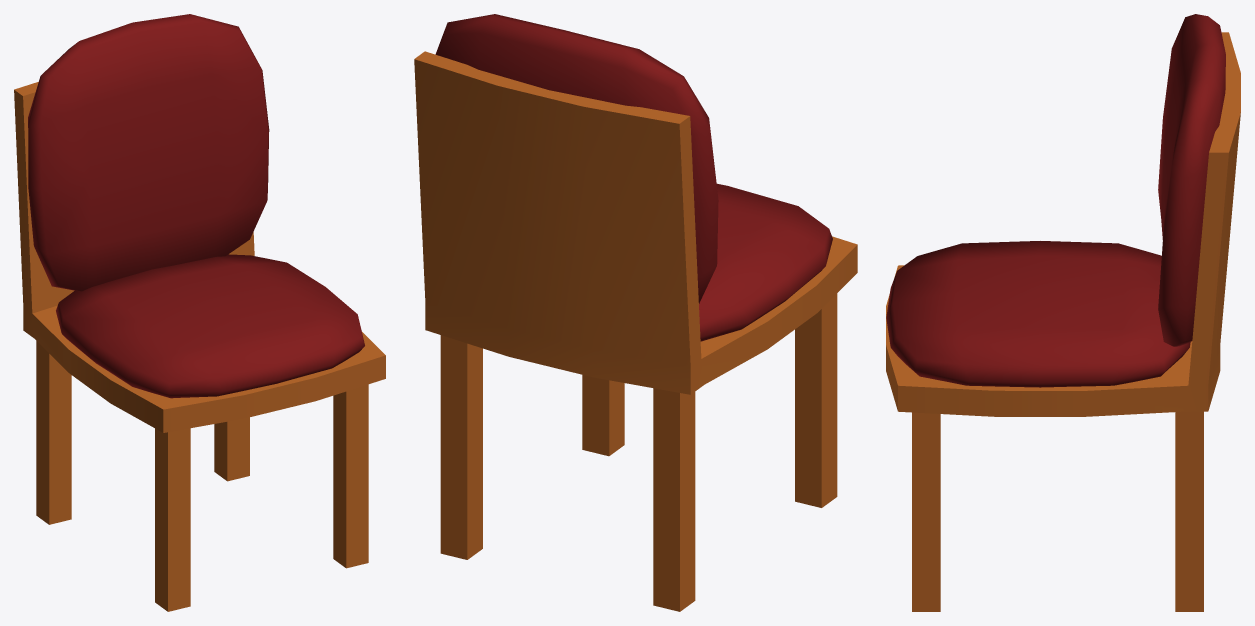
File: chair.FBX
3 views of the same model, side by side, from view 1: azimuth 30°, elevation 25°; view 2: azimuth 150°, elevation 25°; view 3: azimuth 270°, elevation 25° (orthographic). The views are drawn at different scales.
Parts seen in each view (by area): view 1: Box002; view 2: Box002; view 3: Box002.
Boxes of the visible parts, x1,y1,x2,y2 form: Box002: [14, 14, 385, 611]; Box002: [414, 14, 857, 611]; Box002: [886, 14, 1240, 611].
Size of the model in its own units: 43.26 by 79.61 by 49.71.
